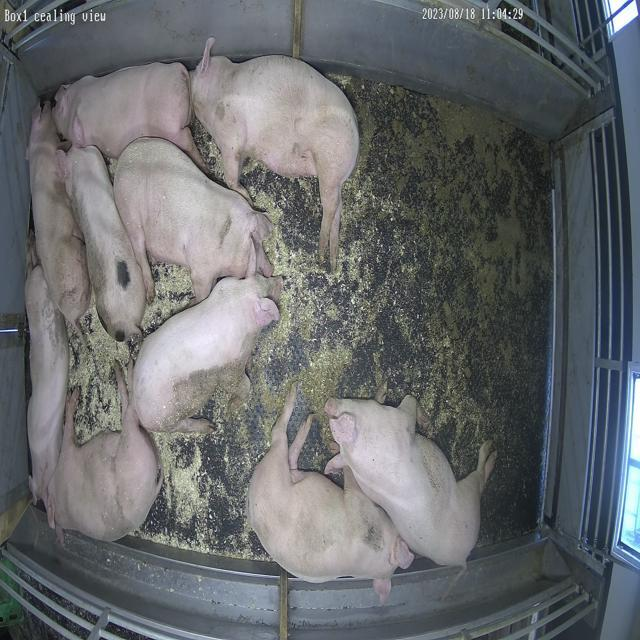Dirt: (245, 75, 552, 544)
Pig: (191, 38, 360, 268), (249, 386, 414, 602), (325, 386, 498, 567), (113, 138, 272, 302), (132, 276, 282, 433), (53, 371, 162, 542), (52, 62, 204, 170), (65, 146, 146, 342), (26, 102, 91, 324), (24, 265, 68, 526)
